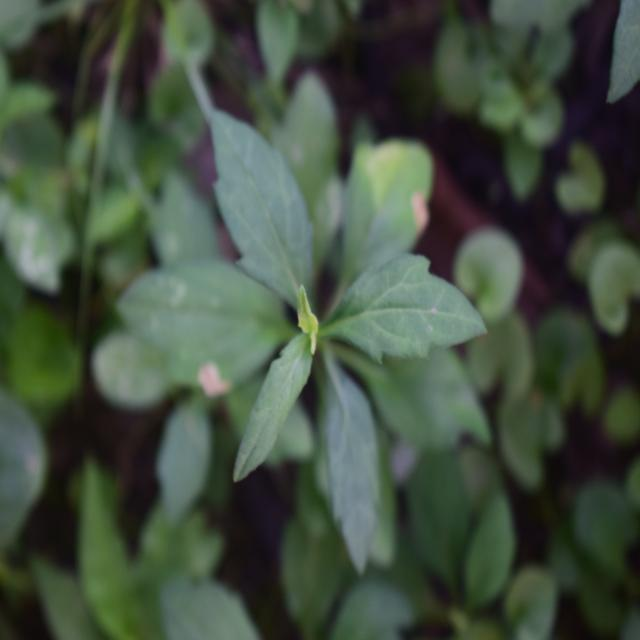Indian aster: (144, 119, 473, 550)
